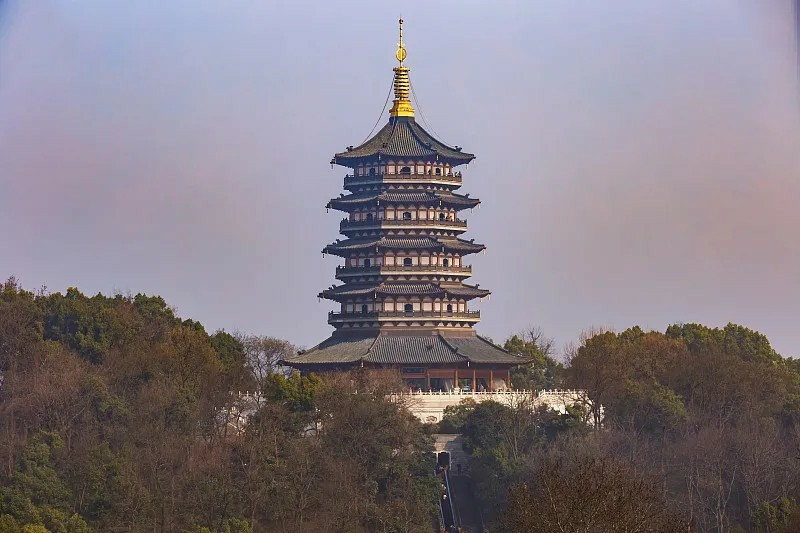Leifeng: (285, 12, 535, 391)
